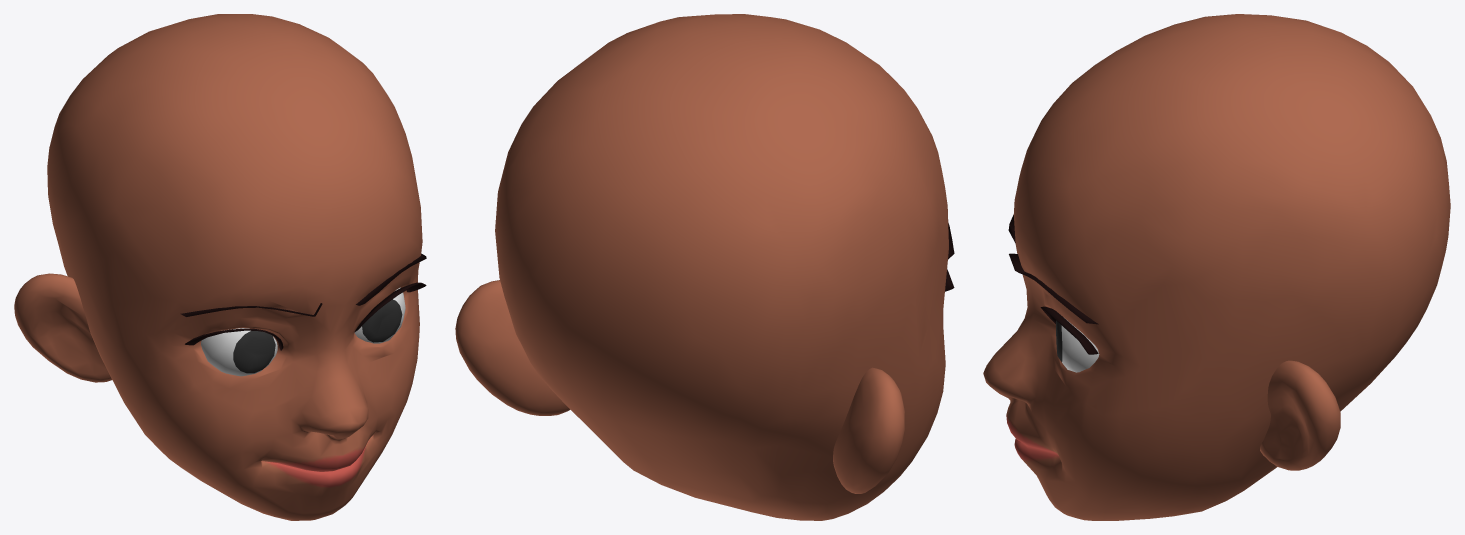
3 renders of one model, left to right at view 1: azimuth 30°, elevation 25°; view 2: azimuth 150°, elevation 25°; view 3: azimuth 270°, elevation 25°, orthographic. The views are drawn at different scales.
Parts seen in each view (by area): view 1: skin.001, ears.001, eyes.001, brows.001; view 2: skin.001, ears.001; view 3: skin.001, ears.001, brows.001, eyes.001.
Part boxes in pixels (left/top/right/bottom): skin.001: left=47, top=14, right=422, bottom=520; ears.001: left=14, top=273, right=111, bottom=382; eyes.001: left=201, top=287, right=405, bottom=376; brows.001: left=180, top=253, right=426, bottom=350; skin.001: left=495, top=14, right=948, bottom=520; ears.001: left=455, top=280, right=904, bottom=493; skin.001: left=983, top=14, right=1450, bottom=520; ears.001: left=1260, top=360, right=1340, bottom=470; brows.001: left=1008, top=215, right=1098, bottom=354; eyes.001: left=1056, top=318, right=1099, bottom=372.
Bounding box in the file's own units: 1.8 × 2 × 1.8.
11 materials, 1 textured.
